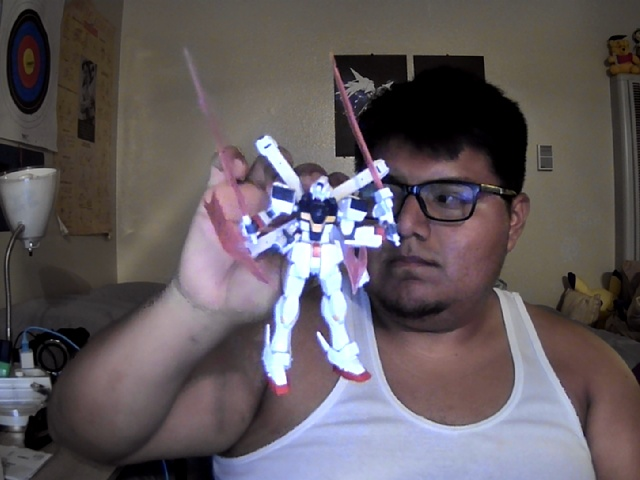Crossbones: (181, 48, 403, 395)
